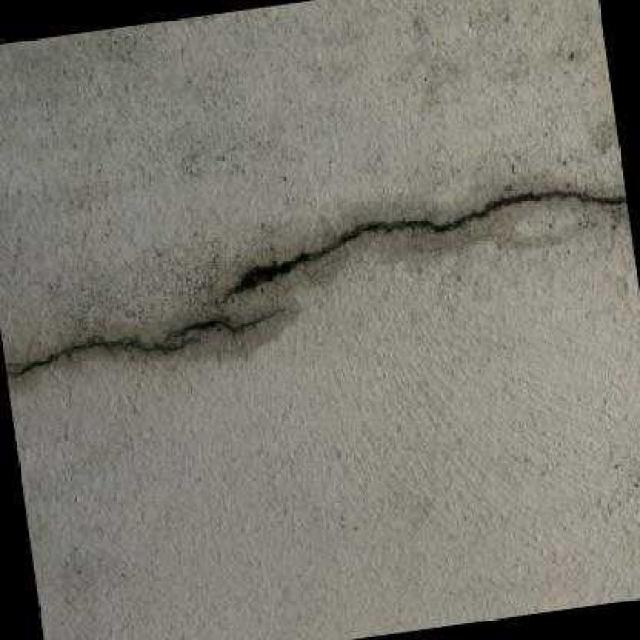D00: (223, 189, 627, 293), (4, 336, 194, 379), (167, 306, 288, 335)
